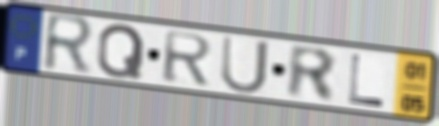L: (346, 51, 387, 109)
Q: (94, 22, 147, 80)
R: (41, 11, 98, 78), (286, 42, 339, 105), (161, 29, 216, 88)
U: (219, 33, 271, 97)
